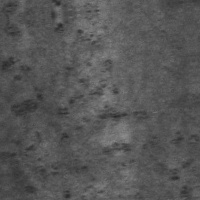rolled-in_scale: (51, 52, 141, 178), (0, 51, 61, 199), (99, 129, 199, 199)
